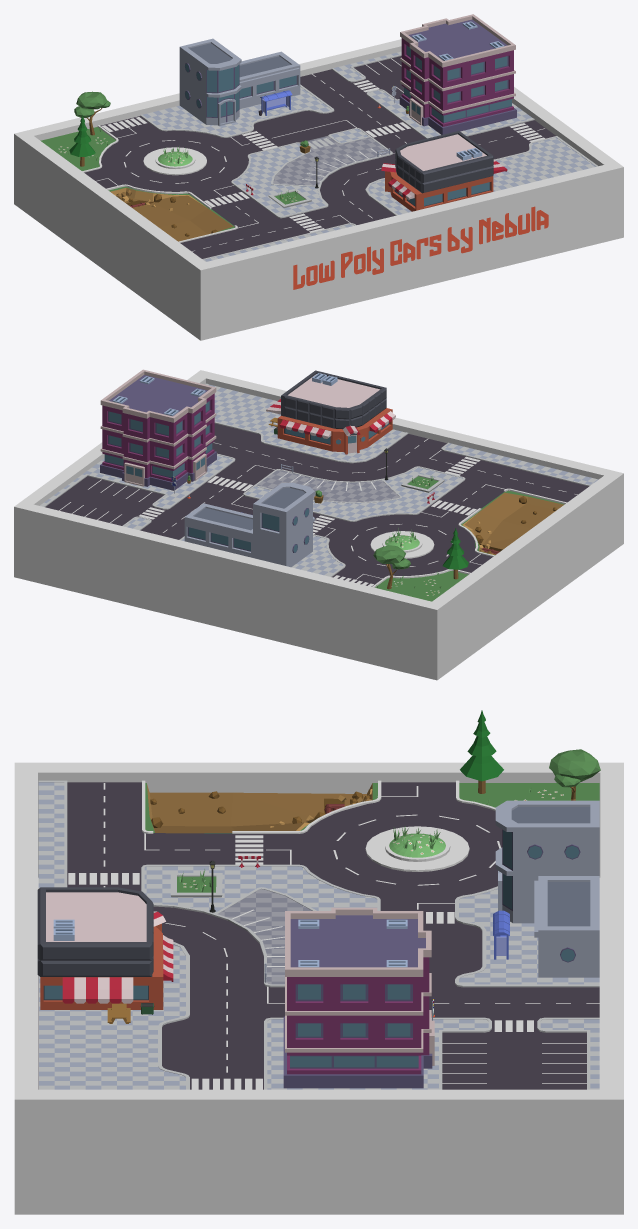
File: Diorama.fbx
3 renders of one model, top to bottom at view 1: azimuth 30°, elevation 25°; view 2: azimuth 150°, elevation 25°; view 3: azimuth 270°, elevation 25°, orthographic. The views are drawn at different scales.
Parts seen in each view (by area): view 1: Frame, House, BusStation, Shop, Tree, Tree2, GrassPatch, BusStop; view 2: Frame, House, Shop, BusStation, Tree, Tree2, GrassPatch; view 3: Frame, House, BusStation, Shop, Tree2, Tree, GrassPatch, BusStop.
Boxes of the visible parts, x1,y1,x2,y2 form: Frame: (14, 39, 623, 340); House: (399, 14, 516, 134); BusStation: (179, 38, 300, 125); Shop: (381, 131, 507, 211); Tree: (74, 91, 110, 135); Tree2: (69, 115, 95, 166); GrassPatch: (268, 188, 311, 207); BusStop: (260, 90, 292, 115); Frame: (14, 370, 623, 680); House: (100, 369, 216, 490); Shop: (266, 370, 395, 454); BusStation: (184, 482, 314, 567); Tree: (373, 545, 410, 589); Tree2: (442, 528, 468, 579); GrassPatch: (401, 473, 444, 492); Frame: (14, 762, 623, 1214); House: (283, 907, 434, 1088); BusStation: (495, 800, 599, 977); Shop: (37, 887, 173, 1009); Tree2: (460, 710, 503, 793); Tree: (549, 749, 600, 800); GrassPatch: (170, 869, 222, 897); BusStop: (493, 910, 509, 959).
Size of the model in its own units: 7633 by 2376 by 5837.
